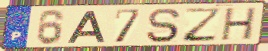6: (36, 9, 65, 47)
7: (114, 8, 142, 44)
A: (65, 10, 107, 44)
H: (219, 6, 259, 42)
S: (145, 7, 183, 44)
Z: (183, 6, 224, 43)
